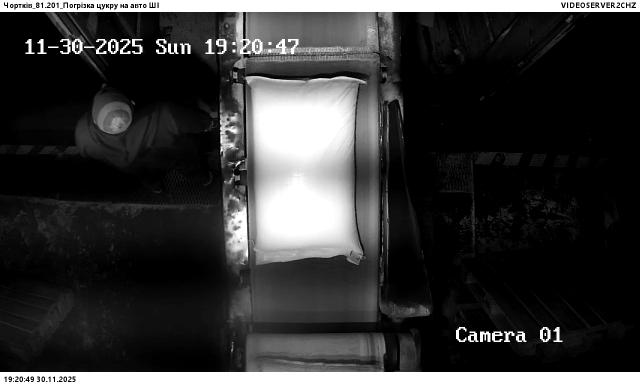bag: (244, 75, 366, 268), (256, 358, 386, 372)
